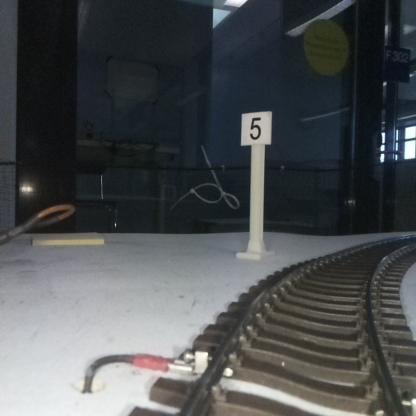white-info-5: (241, 112, 271, 259)
